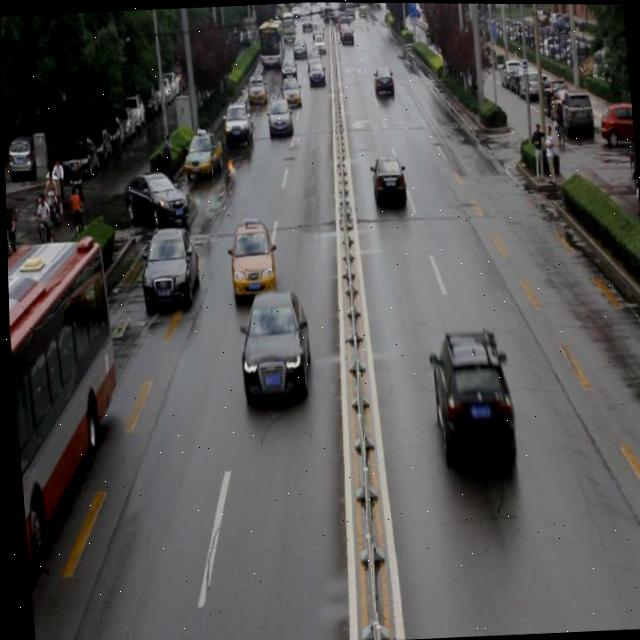car: (426, 328, 515, 464), (234, 290, 310, 403), (136, 227, 200, 312), (119, 171, 189, 228), (226, 217, 274, 297), (180, 129, 224, 176), (369, 153, 405, 208), (221, 101, 252, 144), (265, 98, 292, 139), (279, 77, 301, 107), (247, 74, 266, 106)
van: (6, 240, 128, 568)
